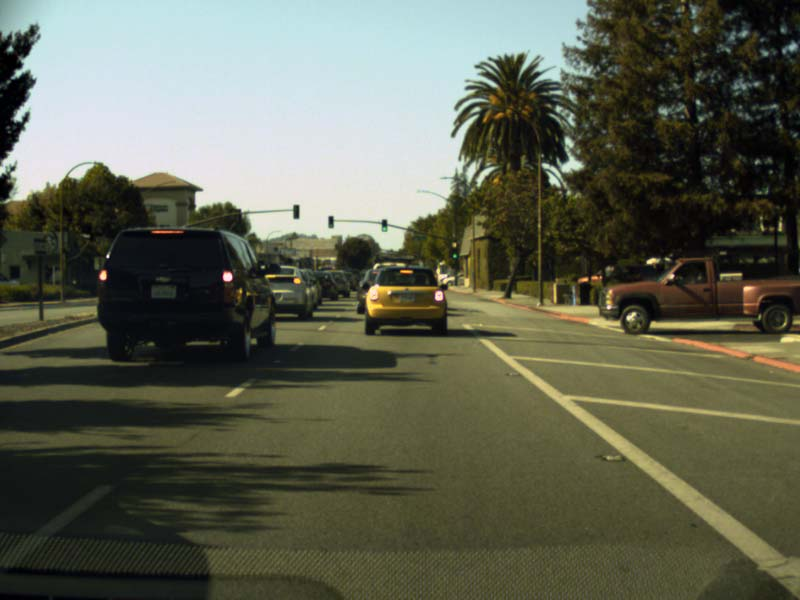Green: (380, 219, 387, 231), (450, 250, 459, 259)
Yellow: (450, 239, 458, 248)
